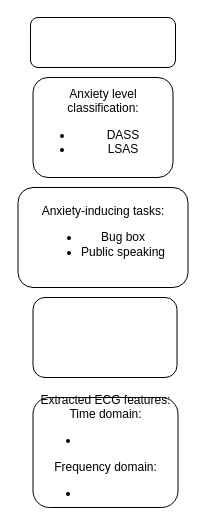
The diagram is 205 pixels wide and 530 high, and some of its shapes have lost their labels. The centre of each missing label's shape, as x and y in pixels:
"60 recordings of participants aged 18-35" belongs at (103,42).
"ECG signal recorded at 250 Hz" belongs at (104,337).
